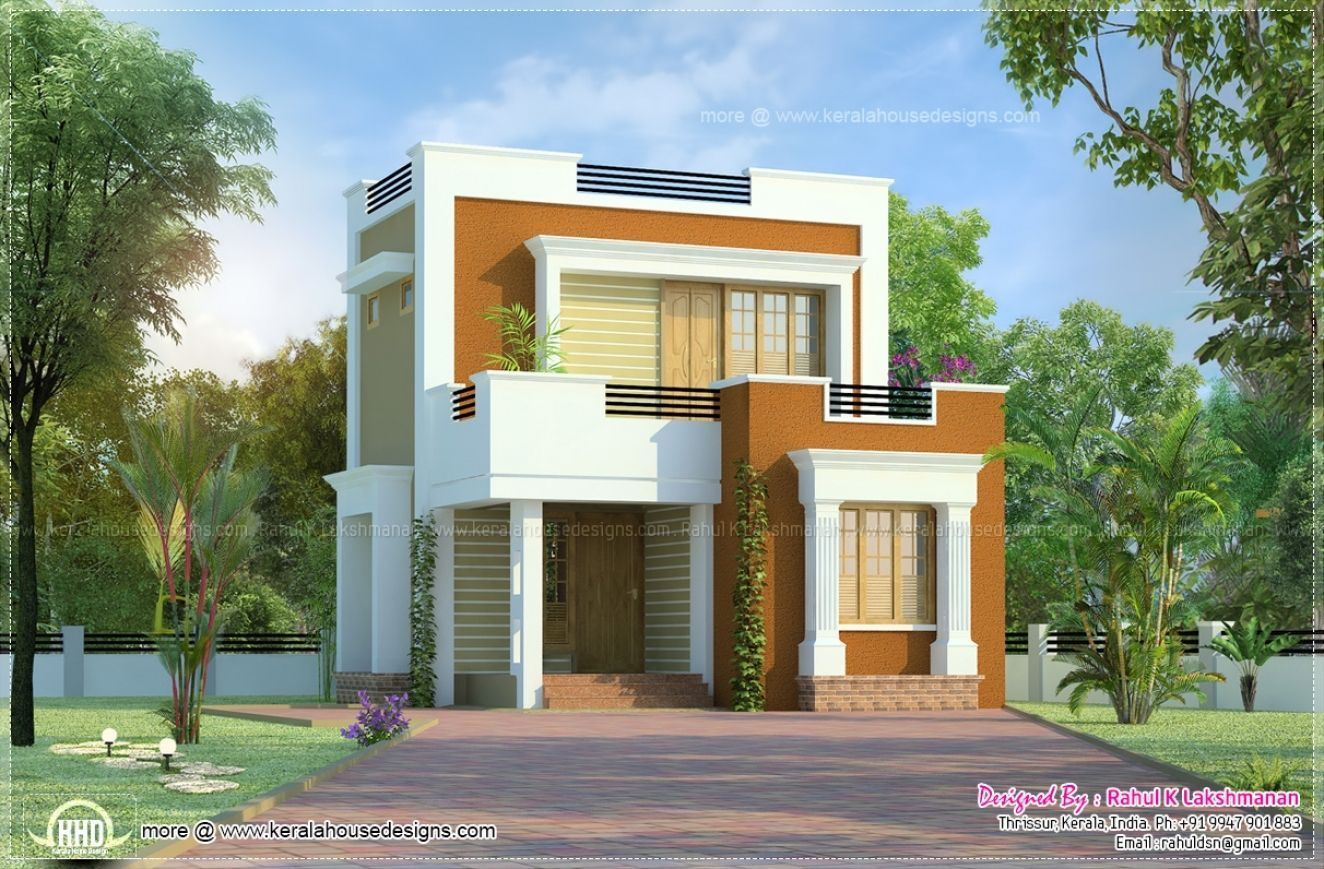Building House: (320, 137, 1020, 702)
